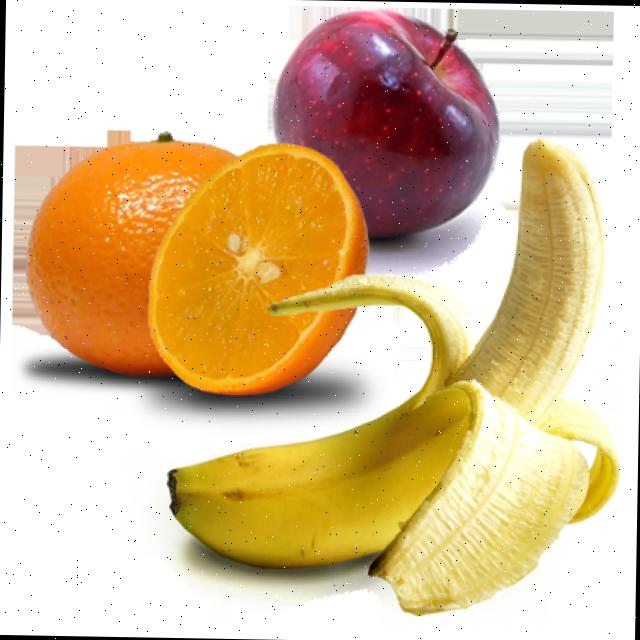Apel: (271, 5, 503, 241)
Jeruk: (146, 138, 372, 397), (25, 128, 239, 378)
Pisang: (165, 131, 626, 618), (367, 376, 592, 618)
